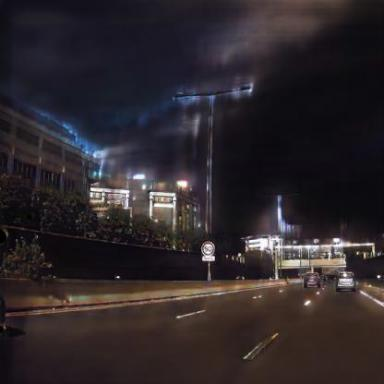Speed_limit_90: (203, 244, 214, 256)
